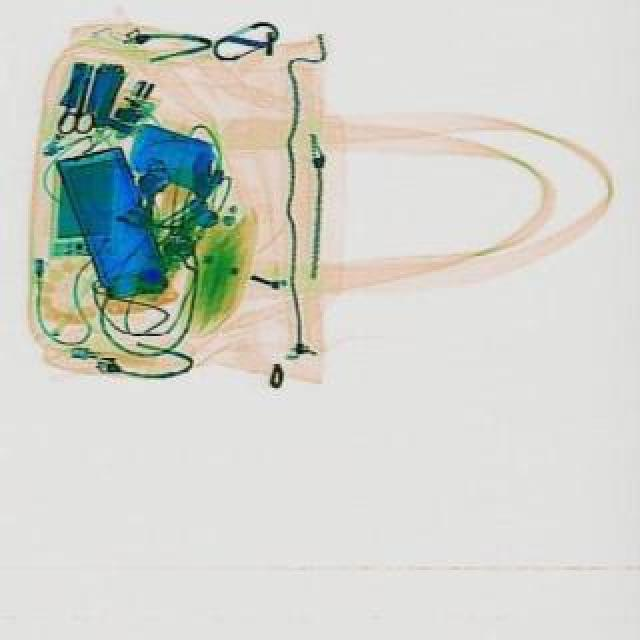pliers: (60, 68, 108, 140)
